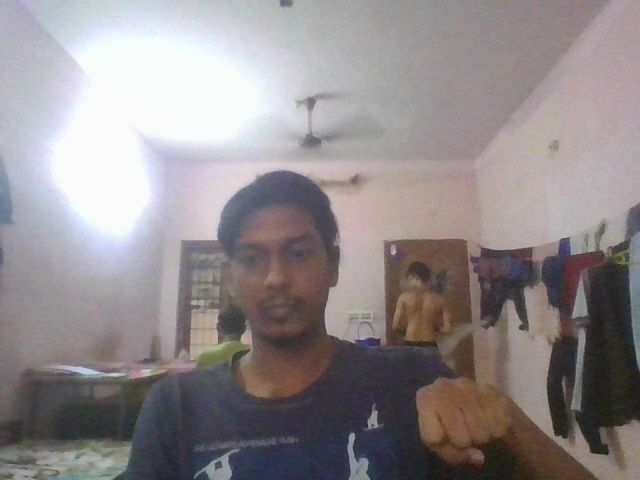yes: (408, 371, 519, 470)
